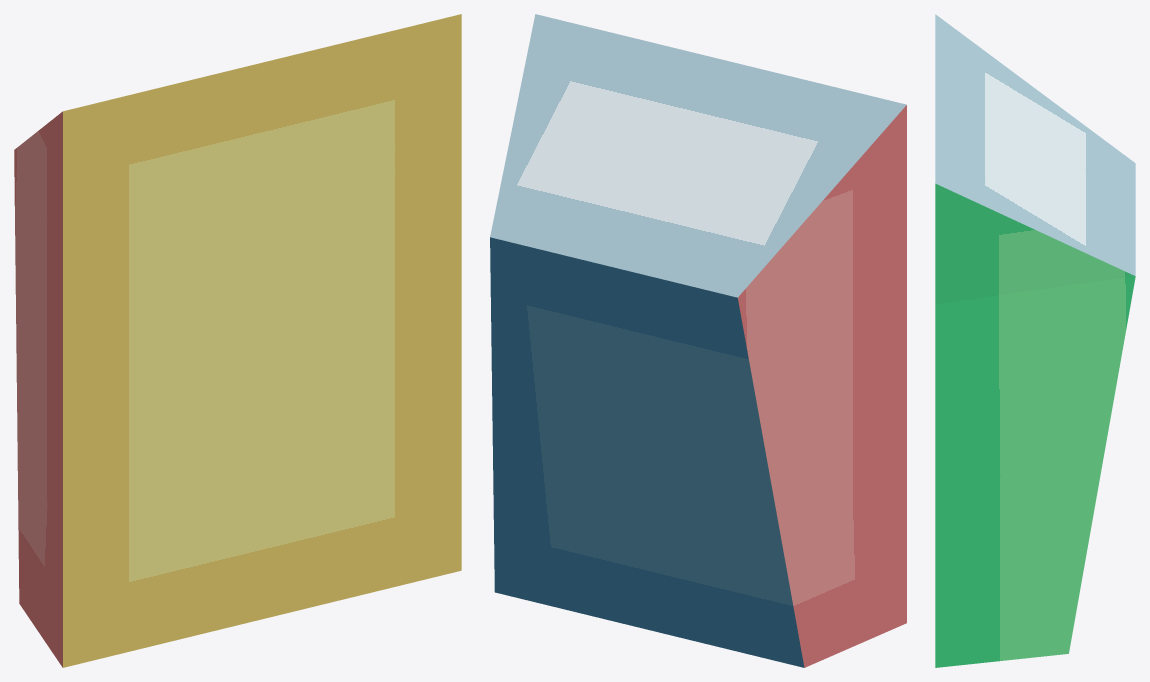
Rendered from keycard_reader.obj.
The picture shows the model from 3 angles, left to right: view 1: azimuth 30°, elevation 25°; view 2: azimuth 150°, elevation 25°; view 3: azimuth 270°, elevation 25°; orthographic projection. The views are drawn at different scales.
Visible parts, largest first — view 1: cuboid; view 2: cuboid; view 3: cuboid.
Boxes of the visible parts, <box> form: cuboid: <box>14,14,461,667</box>; cuboid: <box>490,14,906,667</box>; cuboid: <box>935,14,1135,667</box>.
Size of the model in its own units: 0.1875 by 0.25 by 0.0938.
1 material, 1 textured.
